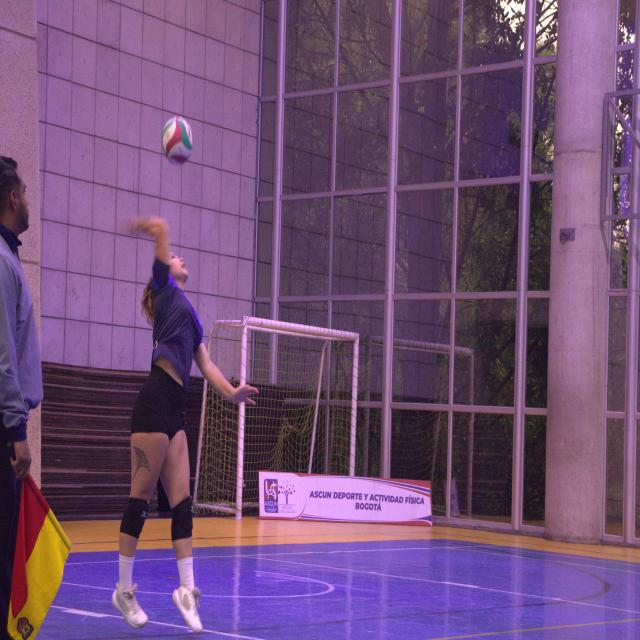volleyball: (162, 115, 192, 163)
